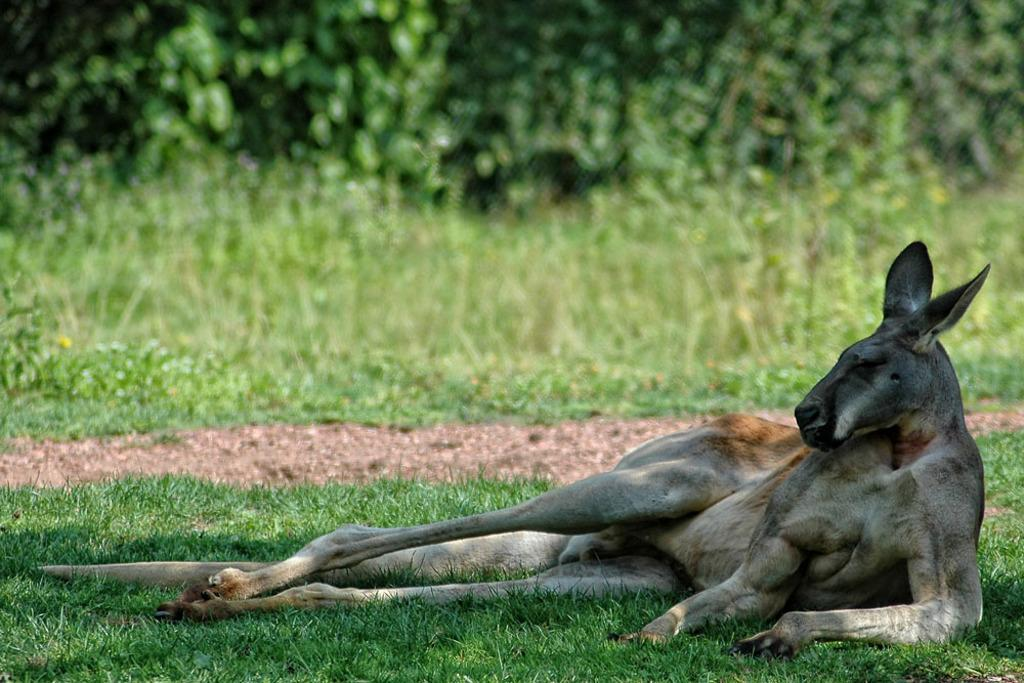kangaroo: (30, 243, 986, 660)
